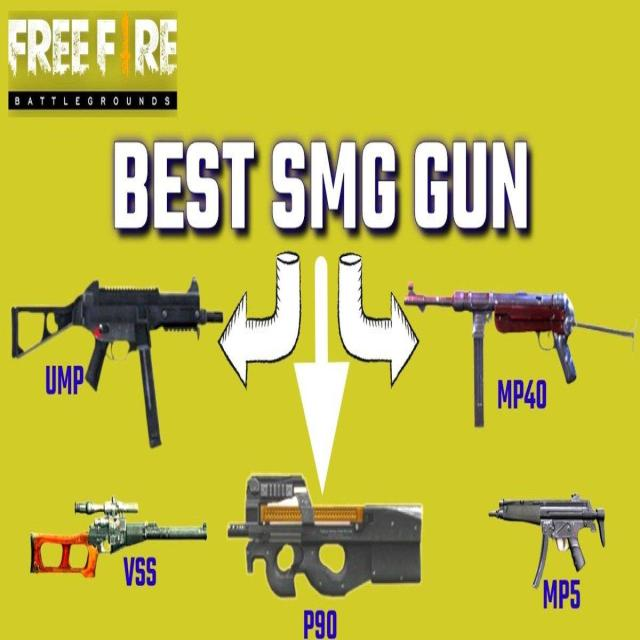weapon: (7, 272, 225, 459), (402, 282, 636, 432), (228, 472, 436, 614), (25, 498, 212, 594), (487, 493, 611, 597)
